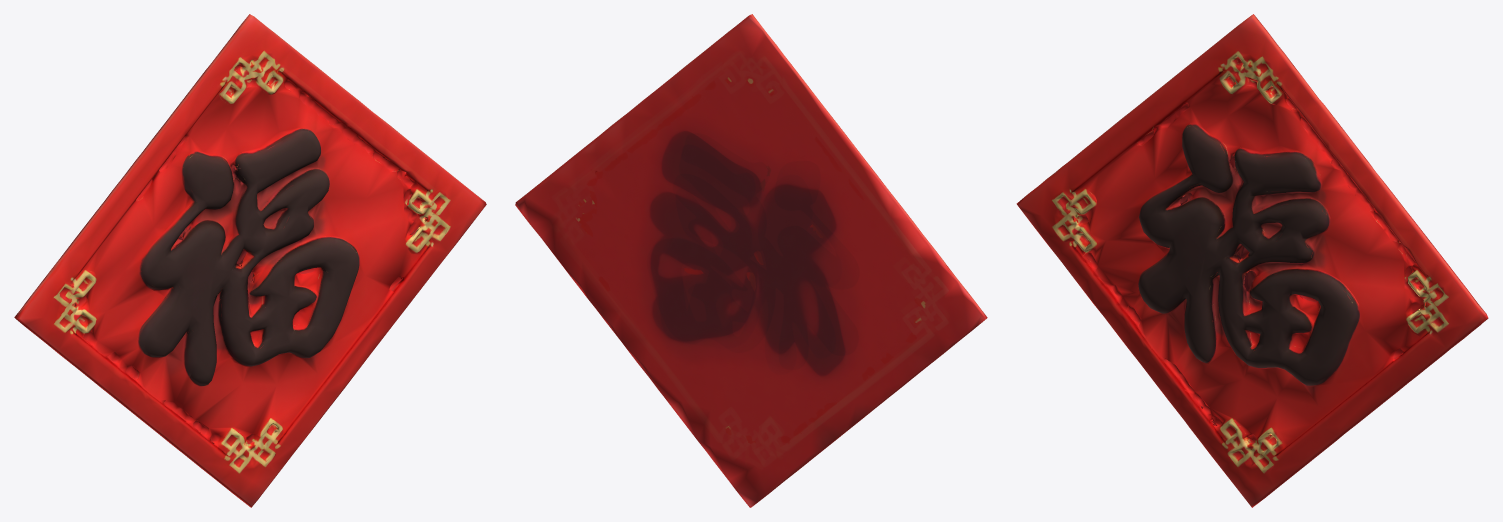
The model's file is CalligraphyFu.glb.
3 renders of one model, left to right at view 1: azimuth 30°, elevation 25°; view 2: azimuth 150°, elevation 25°; view 3: azimuth 330°, elevation 25°, orthographic.
Bounding box in the file's own units: 1.91 × 1.91 × 0.0456.
Materials: 1 (1 with a texture image).
